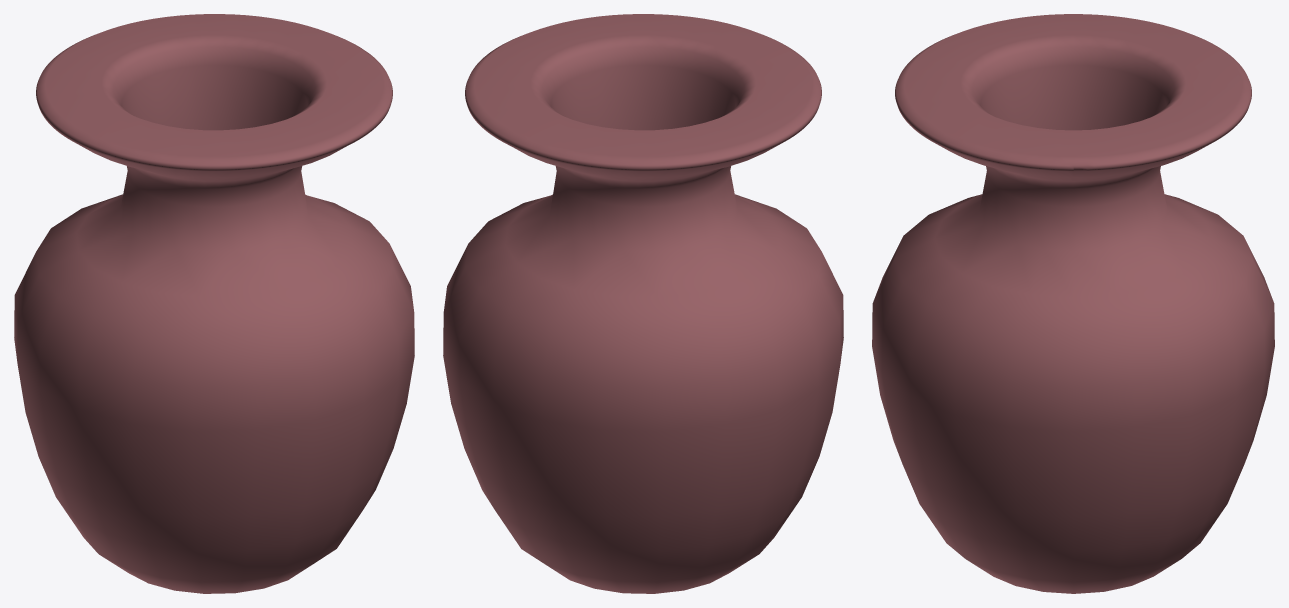
Rendered from Pot rood.fbx.
3 views of the same model, side by side, from view 1: azimuth 30°, elevation 25°; view 2: azimuth 150°, elevation 25°; view 3: azimuth 270°, elevation 25° (orthographic).
Parts seen in each view (by area): view 1: Pot; view 2: Pot; view 3: Pot.
Boxes of the visible parts, <box> form: Pot: <box>14,14,414,593</box>; Pot: <box>443,14,843,593</box>; Pot: <box>872,14,1274,593</box>.
Size of the model in its own units: 0.453 by 0.5907 by 0.453.
